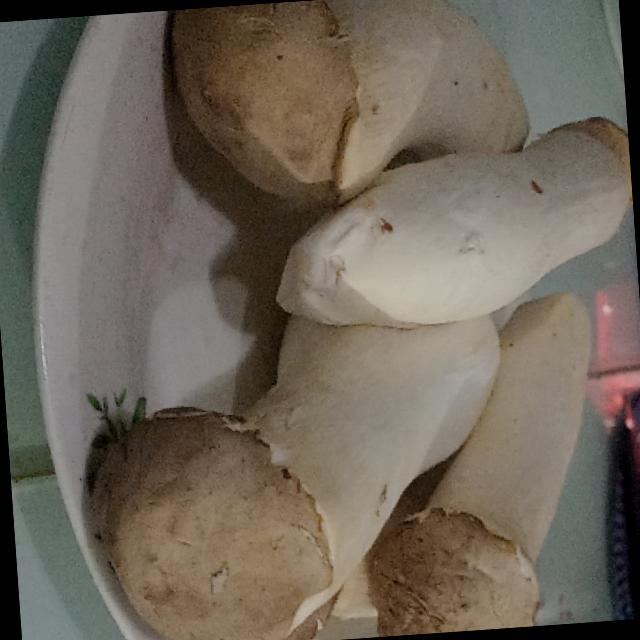Pleurotus eryngii: (72, 276, 525, 640), (356, 294, 640, 633), (267, 114, 640, 347), (145, 0, 561, 196)
